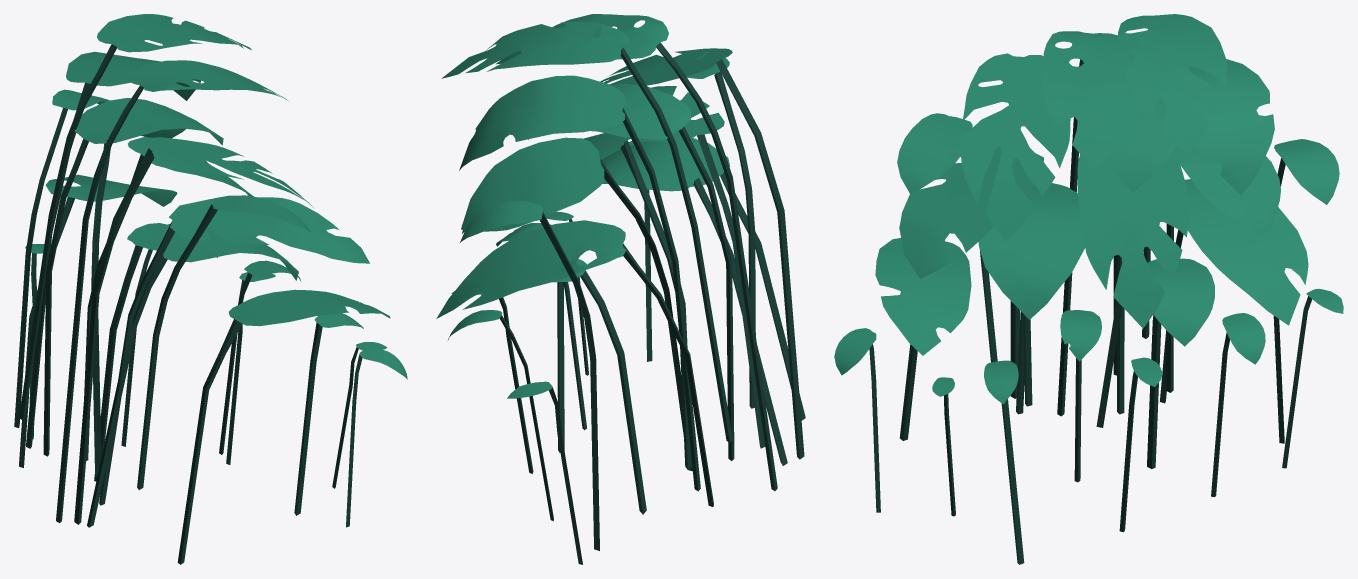
The model's file is plant_monstera_B.fbx.
The picture shows the model from 3 angles, left to right: view 1: azimuth 30°, elevation 25°; view 2: azimuth 150°, elevation 25°; view 3: azimuth 270°, elevation 25°; orthographic projection. The views are drawn at different scales.
Visible parts, largest first — view 1: plant_monstera_B, plant_monstera_leaf_A_20, plant_monstera_leaf_A_22; view 2: plant_monstera_B, plant_monstera_leaf_A_22, plant_monstera_leaf_A_20; view 3: plant_monstera_B, plant_monstera_leaf_A_20, plant_monstera_leaf_A_22.
Part boxes in pixels (x1=…): plant_monstera_B: x1=19, y1=14, x2=407, y2=527; plant_monstera_leaf_A_20: x1=177, y1=289, x2=390, y2=564; plant_monstera_leaf_A_22: x1=14, y1=89, x2=109, y2=428; plant_monstera_B: x1=436, y1=14, x2=804, y2=564; plant_monstera_leaf_A_22: x1=460, y1=201, x2=599, y2=550; plant_monstera_leaf_A_20: x1=599, y1=138, x2=805, y2=420; plant_monstera_B: x1=834, y1=14, x2=1343, y2=564; plant_monstera_leaf_A_20: x1=875, y1=238, x2=971, y2=440; plant_monstera_leaf_A_22: x1=1273, y1=139, x2=1339, y2=443.
Size of the model in its own units: 230 by 354 by 335.
